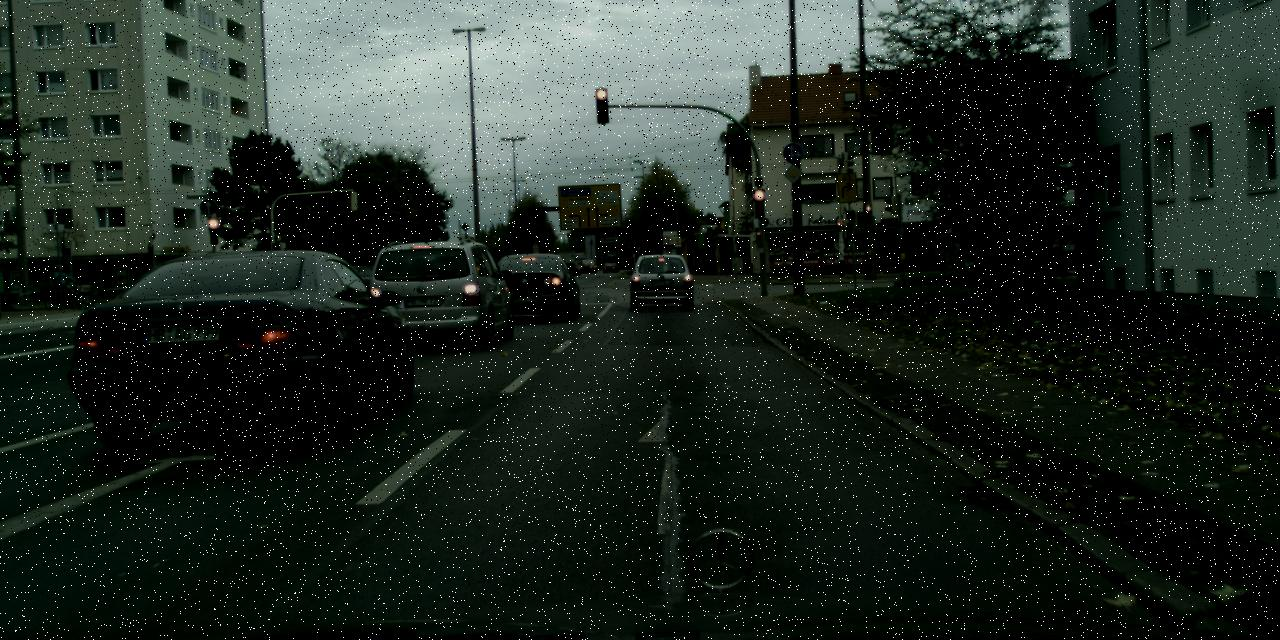ped: (54, 263, 69, 302)
